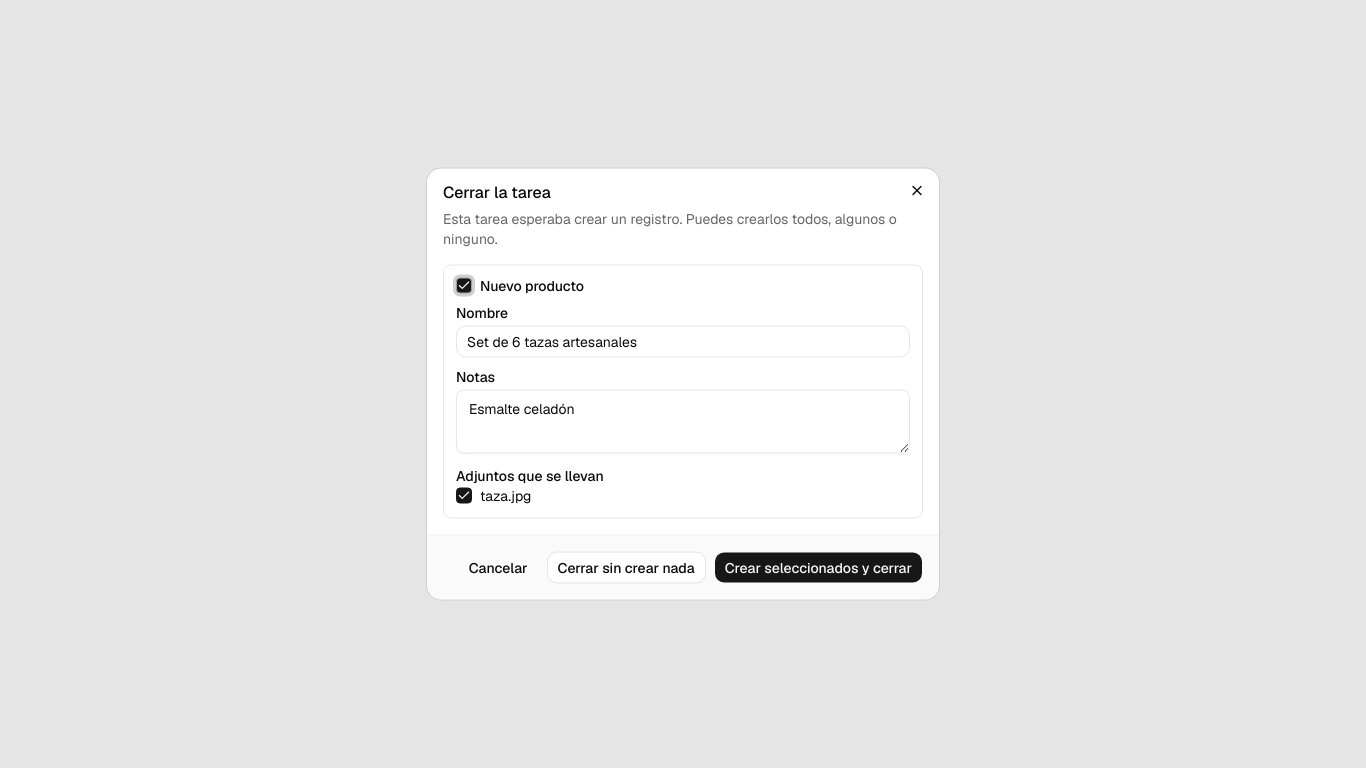
asistente de cierre › un fallo se muestra y la tarea no se da por cerrada
This screenshot has width=1366, height=768.
Click the button "Crear seleccionados y cerrar". click: {"x": 818, "y": 568}
box: [714, 552, 923, 584]
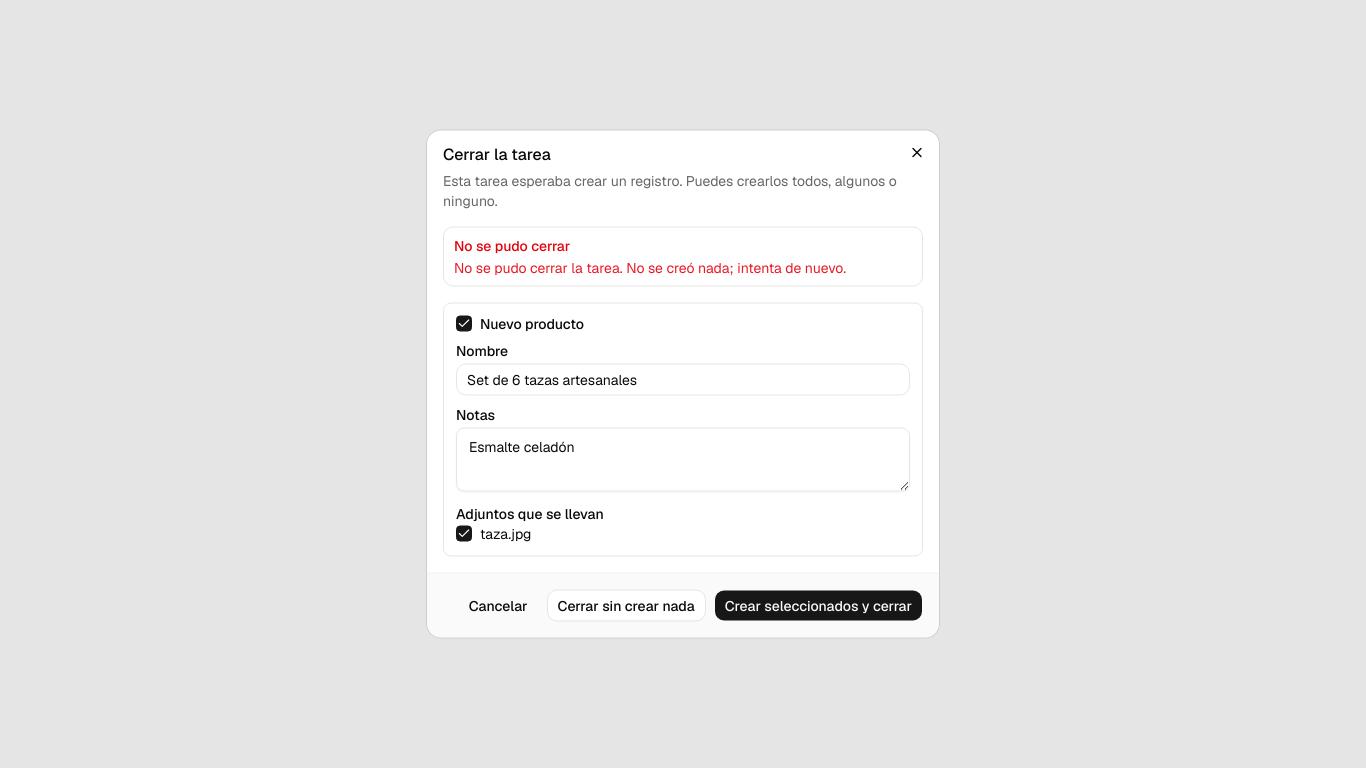
Expected: the message shows "No se creó nada", [454, 258, 846, 276]
